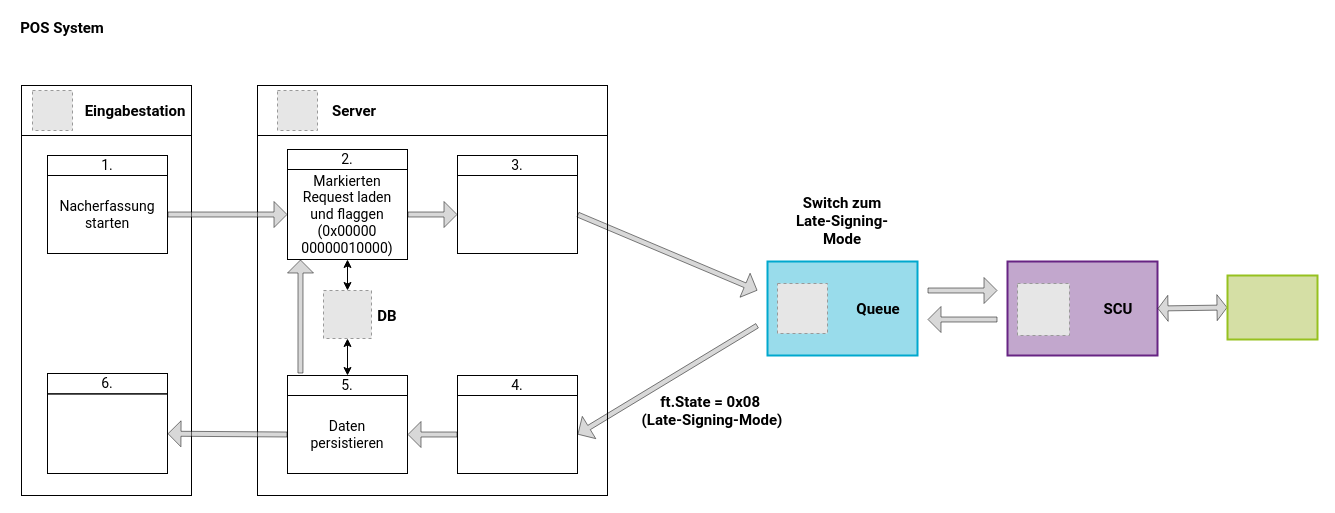
Some shapes in this 1335 by 513 pixel diagram are drawn without their labels. Grey dashed boxes stand in for pictures. The shapes that lost their labels are listed below. From the top down, each one's box as (x1, y1, x2, y2) in pixels, then its label:
(456, 174, 578, 254): sign - Request senden
(1226, 274, 1318, 340): TSE
(46, 393, 168, 474): Beleg erstellen und drucken
(456, 394, 578, 474): Response prozessieren
